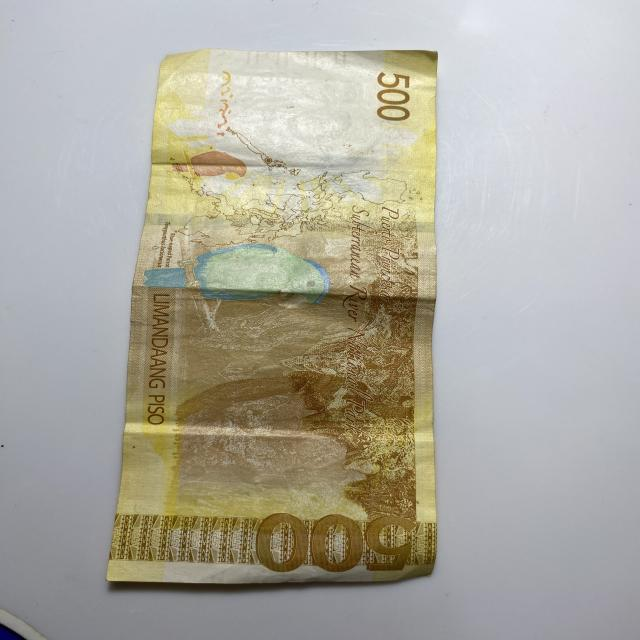500_big_parrot: (140, 244, 338, 306)
500_parrot_watermark: (167, 151, 249, 181)
serial_number: (219, 69, 365, 154)
value_watermark: (261, 70, 308, 86)
